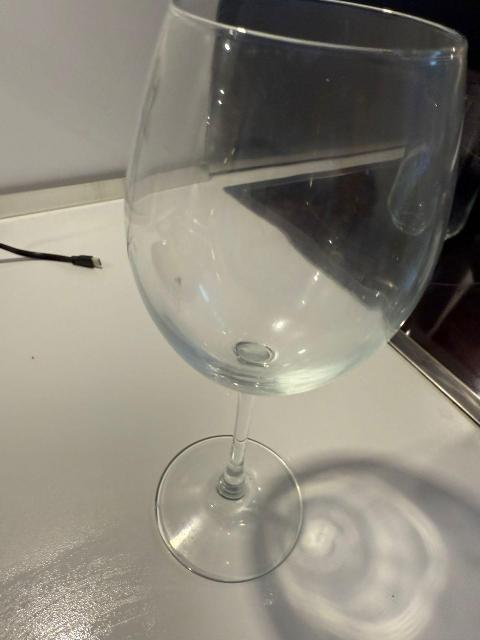Cam: (122, 0, 469, 585)
